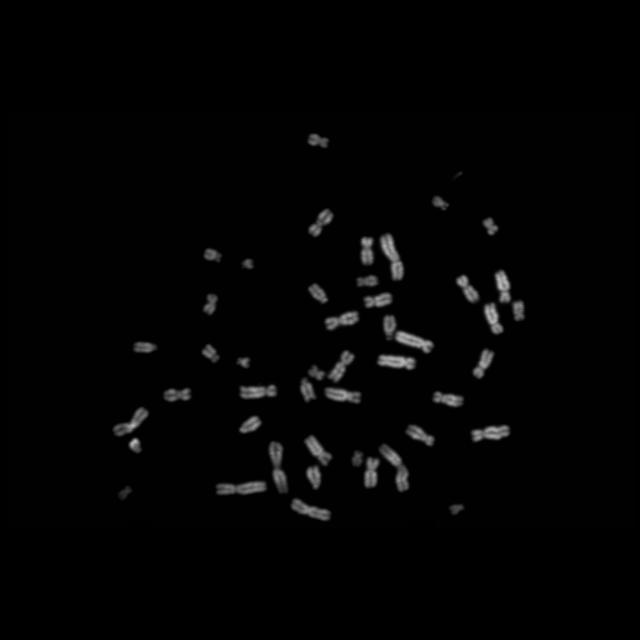chromosome: (380, 442, 410, 492), (380, 235, 404, 281), (113, 406, 149, 436), (268, 441, 288, 494), (290, 498, 332, 522), (328, 351, 357, 384), (394, 331, 434, 354), (216, 480, 266, 498), (304, 435, 332, 465), (471, 424, 511, 444), (324, 386, 362, 406), (324, 310, 358, 332), (455, 275, 481, 303), (309, 209, 333, 237), (376, 356, 416, 372), (472, 350, 493, 380), (240, 384, 278, 400), (484, 302, 504, 332), (494, 270, 512, 302), (408, 424, 434, 446), (364, 290, 392, 310), (304, 464, 324, 492), (164, 386, 191, 406), (238, 414, 262, 436), (202, 292, 220, 318), (433, 391, 462, 407), (364, 456, 378, 488), (309, 283, 329, 305), (300, 377, 316, 403), (202, 344, 220, 366), (510, 300, 526, 324), (360, 238, 374, 264), (382, 316, 396, 342), (132, 341, 158, 355), (482, 216, 498, 238), (308, 134, 330, 150), (431, 195, 449, 213), (356, 274, 378, 288), (204, 249, 222, 265), (308, 364, 324, 382), (129, 438, 143, 456), (241, 256, 255, 272), (351, 451, 364, 467), (237, 355, 249, 369)
